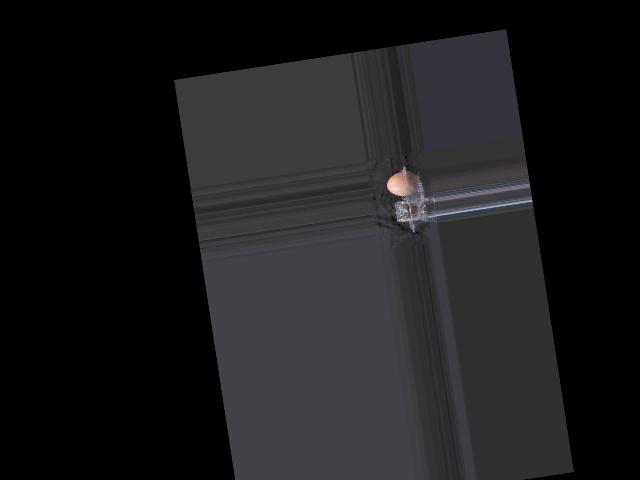egg: (385, 169, 420, 197)
